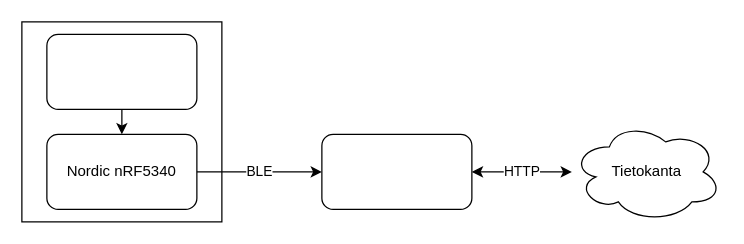
Image size: 744x244. Some labels were removed from this diagram. The box of each missing label's shape, as (x1, y1, x2, y2) in pixels:
Kiihtyvyys anturi: (46, 33, 197, 109)
Rasberry Pi: (321, 133, 472, 209)
